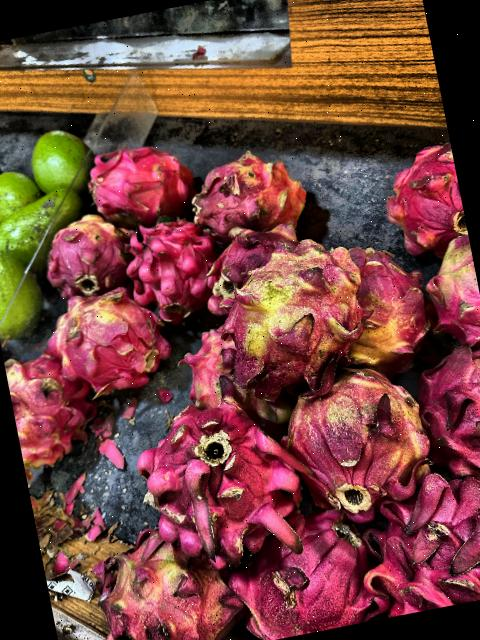buah-naga-belum-matang: (276, 348, 442, 518), (215, 230, 368, 392), (80, 522, 232, 640), (46, 280, 180, 395), (326, 240, 436, 370), (185, 140, 312, 252), (2, 338, 92, 459), (30, 212, 128, 283), (418, 229, 480, 340)
buah-naga-matang: (120, 373, 306, 567), (221, 503, 388, 640), (355, 457, 480, 618), (78, 130, 205, 232), (409, 325, 480, 493), (374, 129, 468, 251), (123, 219, 218, 326)
